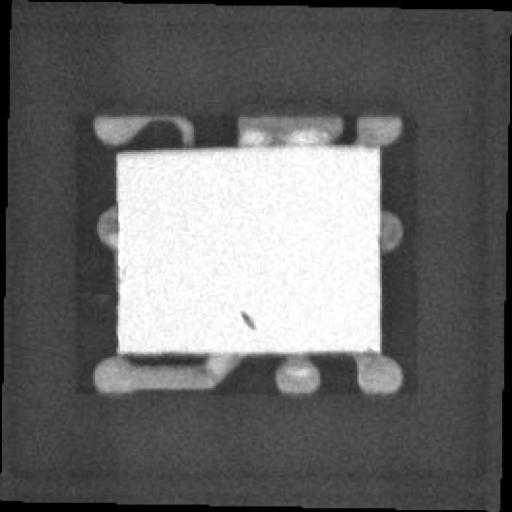DIE_INK: (224, 322, 243, 345)
